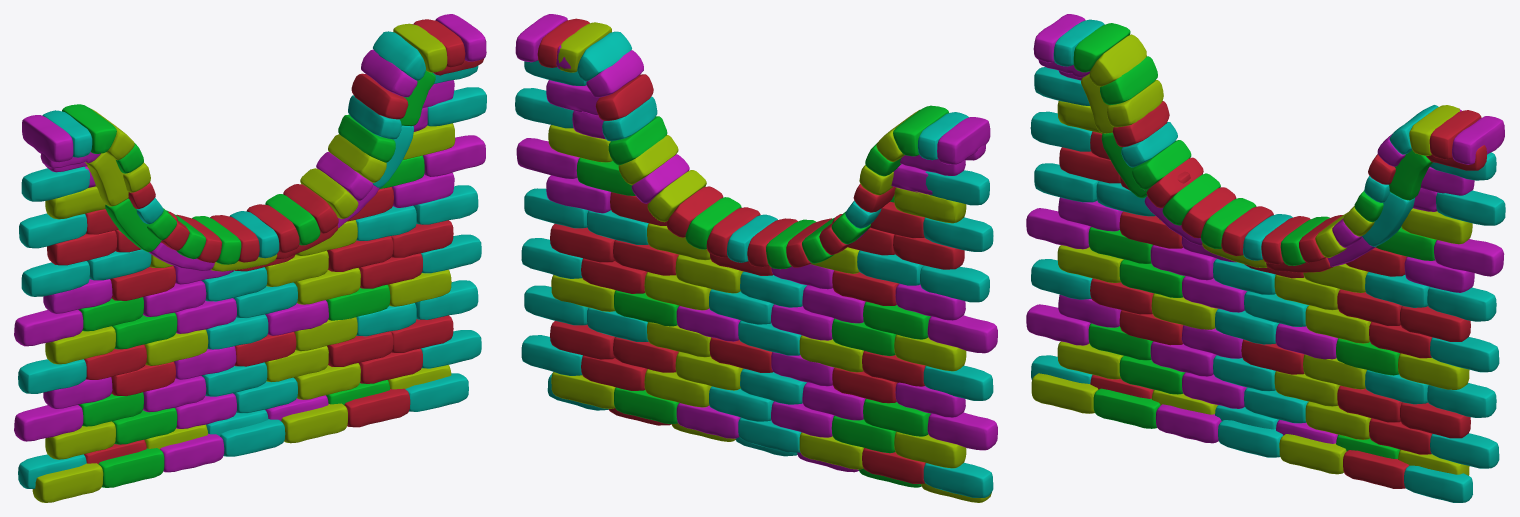
Rendered from MuroLadrillos.fbx.
3 views of the same model, side by side, from view 1: azimuth 30°, elevation 25°; view 2: azimuth 150°, elevation 25°; view 3: azimuth 330°, elevation 25° (orthographic).
Visible parts, largest first — view 1: muro, Brick_L2.007, Brick_L3.005; view 2: muro, Brick_L2.007; view 3: muro, Brick_L2.007, Brick_L3.005.
Boxes of the visible parts, x1,y1,x2,y2 form: muro: (14,66,486,502); Brick_L2.007: (22,14,486,264); Brick_L3.005: (40,58,484,271); muro: (515,60,997,502); Brick_L2.007: (515,14,990,269); muro: (1026,67,1505,502); Brick_L2.007: (1033,14,1504,265); Brick_L3.005: (1038,60,1486,272).
Size of the model in its own units: 265 by 199 by 35.94.
